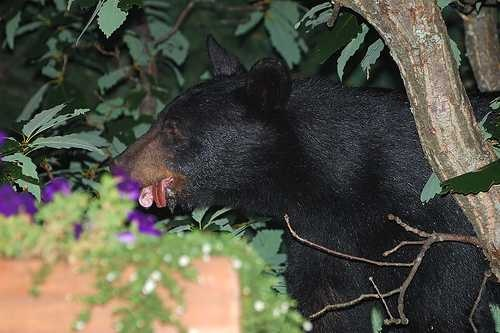bear: (108, 95, 236, 223), (197, 34, 325, 162)
